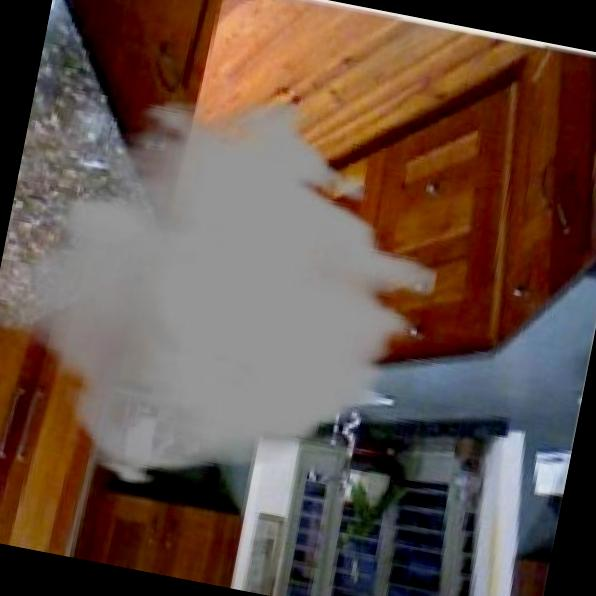smoke: (1, 78, 419, 499)
